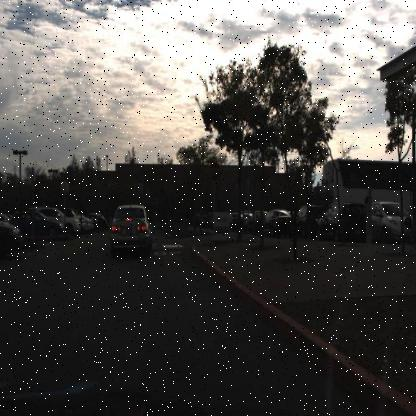car: (313, 197, 371, 241), (108, 203, 152, 257), (315, 199, 369, 240), (367, 199, 414, 245), (10, 209, 66, 246), (18, 207, 64, 233), (48, 207, 81, 243), (259, 207, 296, 239), (293, 202, 324, 238), (0, 212, 24, 256), (0, 216, 26, 248), (64, 209, 81, 233)
truck: (320, 153, 415, 223)
